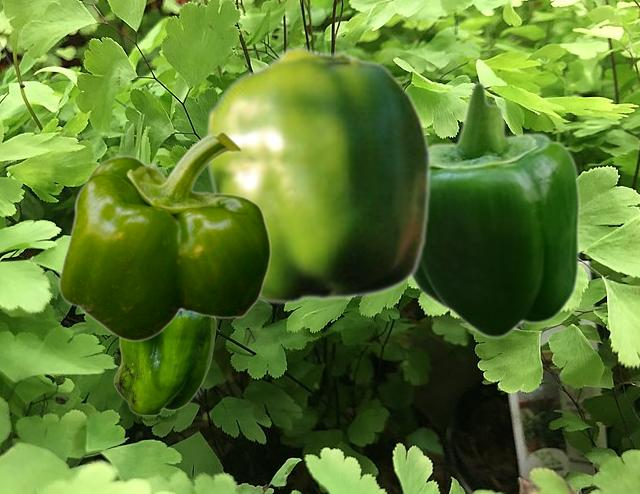bell_pepper: (205, 45, 431, 304), (58, 131, 270, 341), (411, 80, 580, 339), (113, 311, 215, 415)
